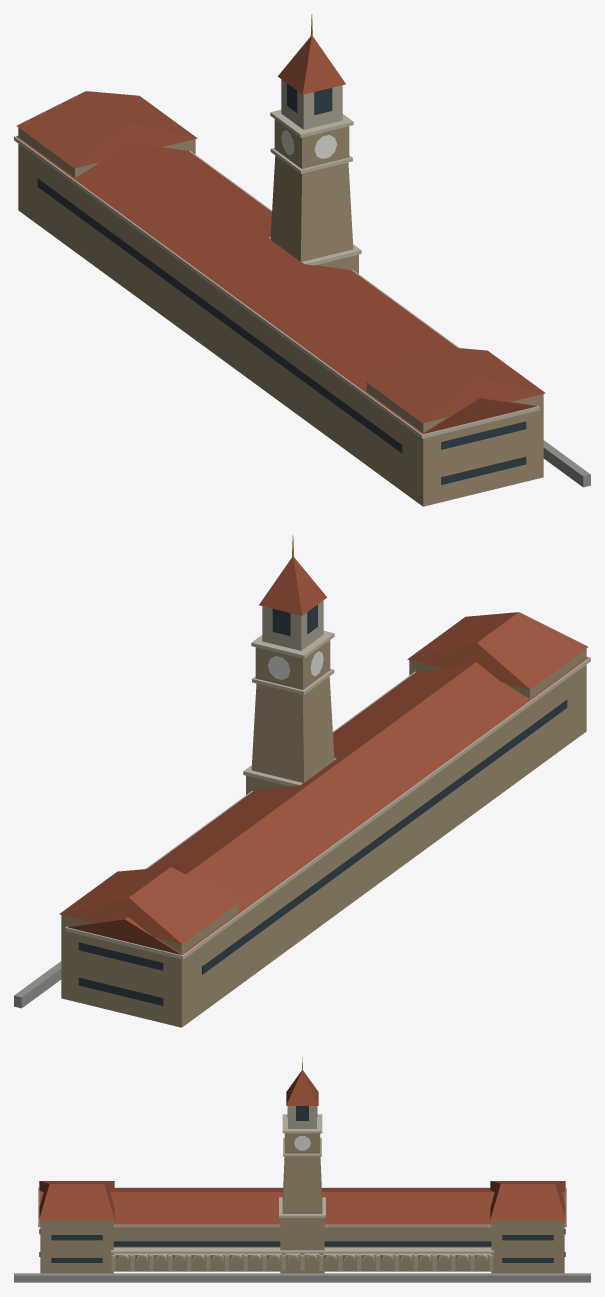
The model's file is mobile.glb.
The picture shows the model from 3 angles, top to bottom: view 1: azimuth 30°, elevation 25°; view 2: azimuth 150°, elevation 25°; view 3: azimuth 270°, elevation 25°; orthographic projection. The views are drawn at different scales.
Visible parts, largest first — view 1: lm.ferry-building; view 2: lm.ferry-building; view 3: lm.ferry-building.
Boxes of the visible parts, x1,y1,x2,y2 form: lm.ferry-building: (14, 14, 590, 506); lm.ferry-building: (14, 535, 590, 1027); lm.ferry-building: (14, 1056, 590, 1282).
Size of the model in its own units: 42.9 by 87.8 by 220.
